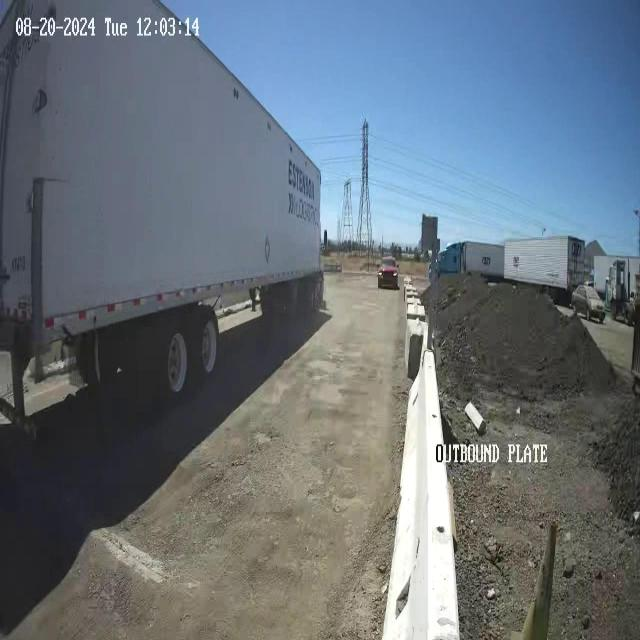TRUCK_CONTAINER: (1, 0, 325, 422)
